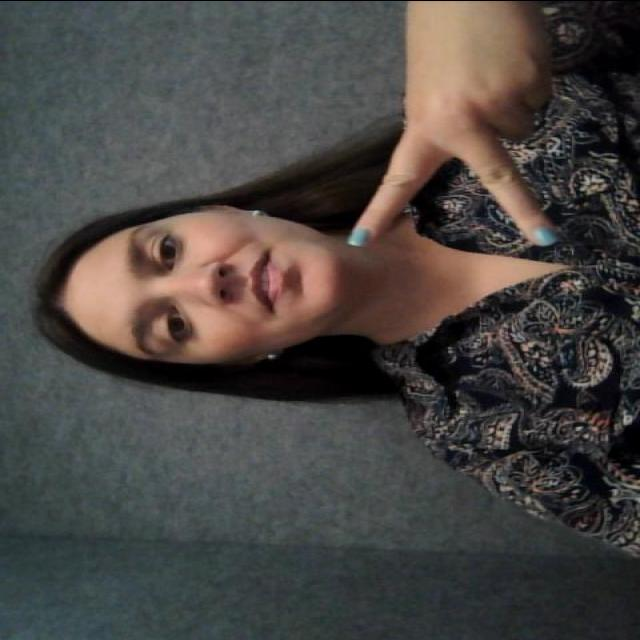Scissors: (338, 0, 596, 277)
